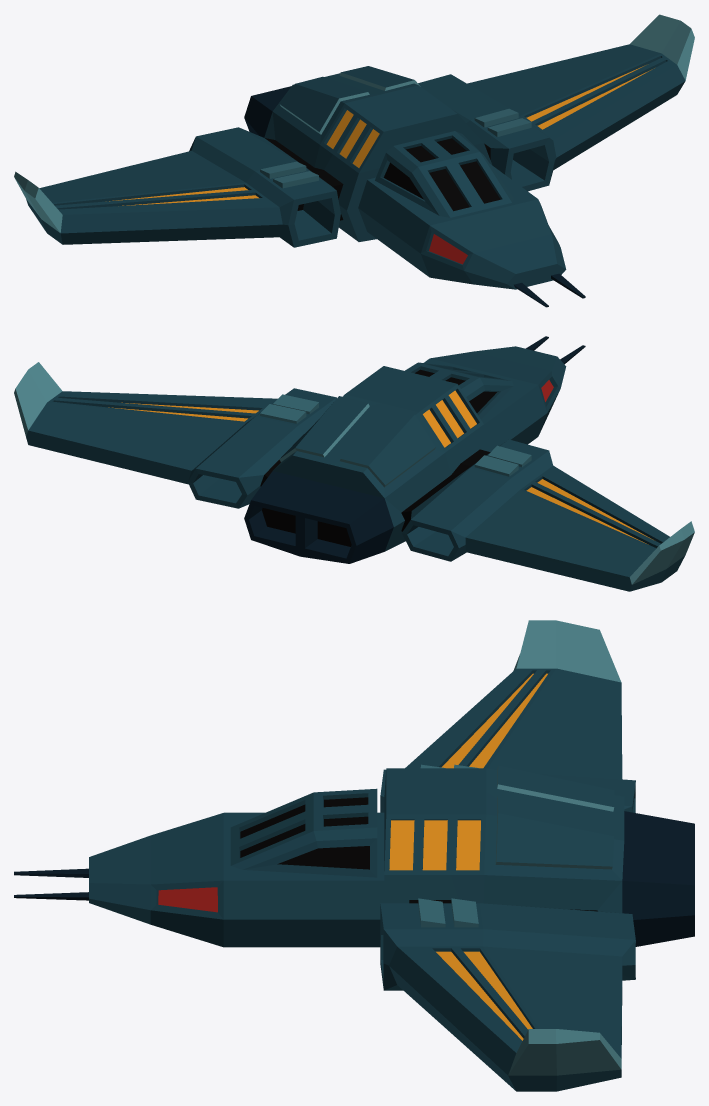
The model's file is Fighter.glb.
3 renders of one model, top to bottom at view 1: azimuth 30°, elevation 25°; view 2: azimuth 150°, elevation 25°; view 3: azimuth 270°, elevation 25°, orthographic. The views are drawn at different scales.
Parts seen in each view (by area): view 1: Ship; view 2: Ship; view 3: Ship.
Part boxes in pixels (x1,y1,x2,y2): Ship: (14,14,694,307); Ship: (14,336,694,591); Ship: (14,620,694,1091).
Size of the model in its own units: 12.16 by 1.94 by 8.48.
Materials: 1 (1 with a texture image).
